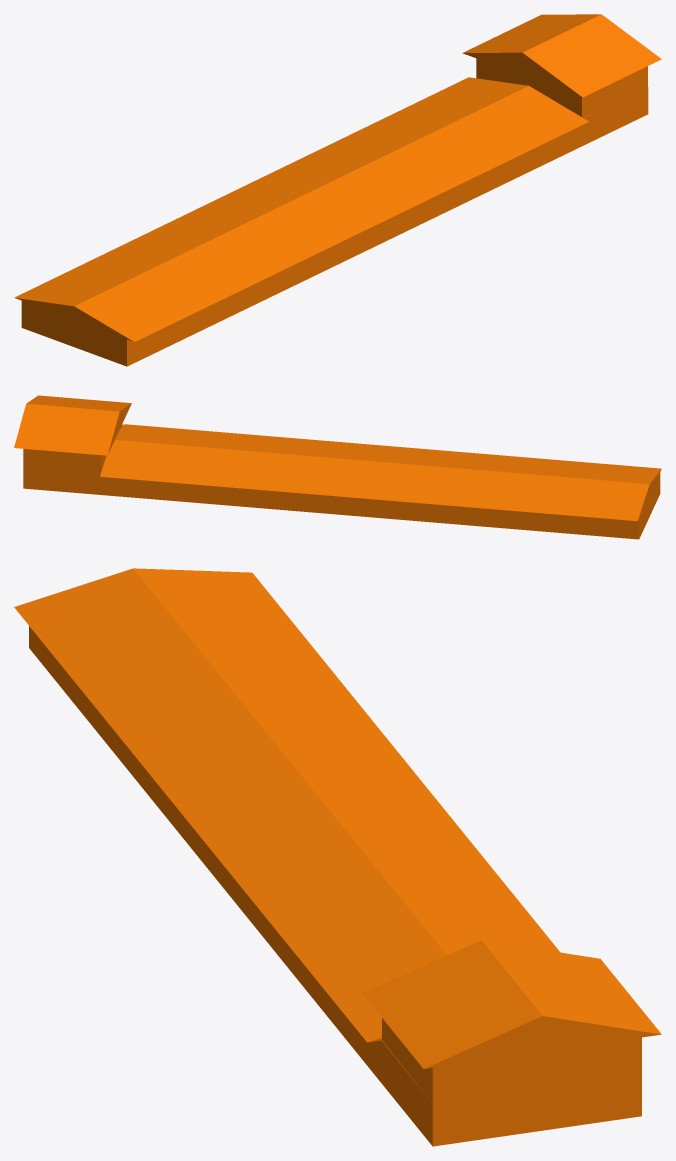
Rendered from 1979-orph.obj.
3 views of the same model, one above another, from view 1: azimuth 30°, elevation 25°; view 2: azimuth 150°, elevation 25°; view 3: azimuth 270°, elevation 25° (orthographic). The views are drawn at different scales.
Parts seen in each view (by area): view 1: Obj_000172, Obj_000050, Obj_000131, Obj_000049; view 2: Obj_000172, Obj_000050, Obj_000131, Obj_000049; view 3: Obj_000172, Obj_000131, Obj_000050, Obj_000049.
Part boxes in pixels (left/top/right/bottom): Obj_000172: left=14, top=77, right=588, bottom=341; Obj_000050: left=21, top=87, right=648, bottom=366; Obj_000131: left=462, top=14, right=661, bottom=97; Obj_000049: left=476, top=58, right=647, bottom=117; Obj_000172: left=100, top=424, right=661, bottom=521; Obj_000050: left=23, top=467, right=660, bottom=539; Obj_000131: left=14, top=395, right=131, bottom=455; Obj_000049: left=23, top=424, right=122, bottom=473; Obj_000172: left=14, top=568, right=560, bottom=1042; Obj_000131: left=362, top=940, right=661, bottom=1068; Obj_000050: left=29, top=626, right=641, bottom=1146; Obj_000049: left=382, top=1018, right=641, bottom=1103.
Size of the model in its own units: 80.81 by 8.5 by 41.02.
